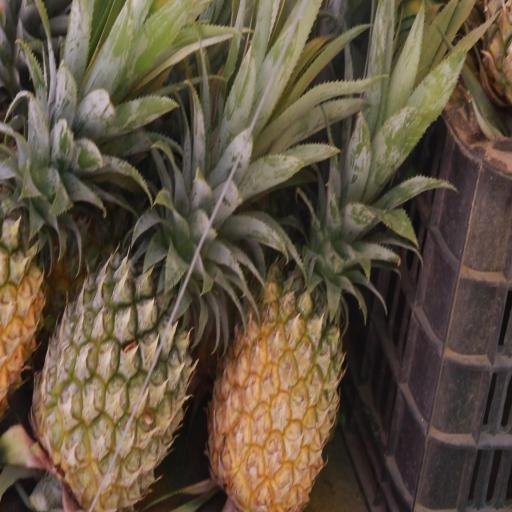Pineapple - v8 v1: (204, 203, 346, 512)
